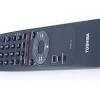remote control: (0, 30, 100, 68)
